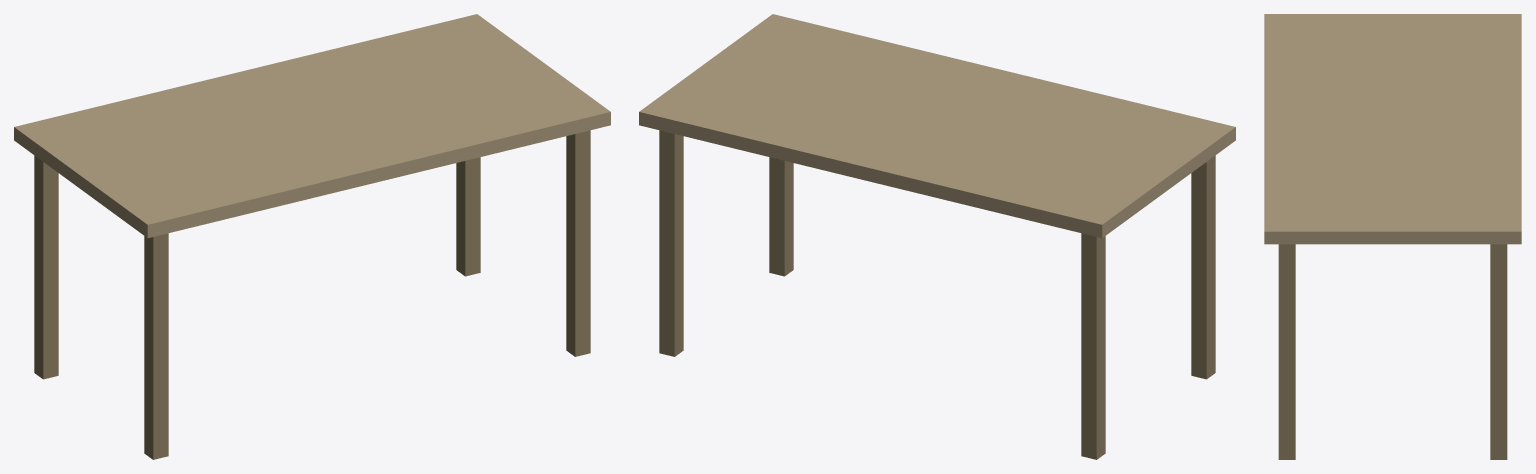
Rendered from island.glb.
3 renders of one model, left to right at view 1: azimuth 30°, elevation 25°; view 2: azimuth 150°, elevation 25°; view 3: azimuth 270°, elevation 25°, orthographic. The views are drawn at different scales.
Visible parts, largest first — view 1: island; view 2: island; view 3: island.
Part boxes in pixels (<box>): island: <box>14,14,610,459</box>; island: <box>639,14,1235,459</box>; island: <box>1264,14,1521,459</box>.
Bounding box in the file's own units: 1.8 × 0.905 × 0.9.
